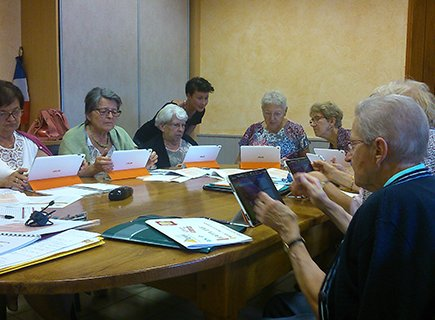without_mask: (341, 126, 385, 191), (94, 101, 119, 128), (1, 101, 21, 132), (308, 112, 331, 138), (166, 114, 185, 142), (263, 102, 283, 128), (191, 88, 209, 111)
